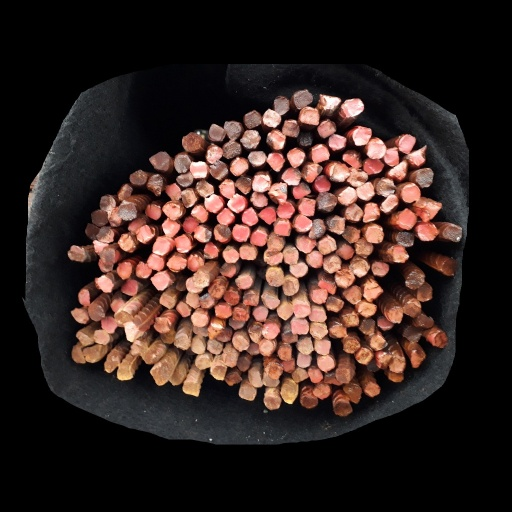dipstick: (415, 201, 442, 221), (340, 97, 364, 119), (317, 92, 340, 113), (406, 146, 427, 168), (315, 191, 337, 212), (347, 166, 368, 188), (363, 279, 384, 301), (122, 320, 144, 341), (148, 151, 171, 171), (207, 325, 233, 342), (352, 125, 373, 146), (302, 162, 323, 183), (349, 257, 370, 278), (150, 365, 171, 386), (262, 107, 282, 129), (181, 132, 203, 152), (251, 171, 271, 193), (334, 269, 356, 289), (316, 235, 338, 255), (416, 224, 440, 242), (293, 89, 314, 109), (366, 138, 386, 159), (266, 129, 286, 150), (233, 175, 254, 195), (117, 200, 138, 220), (328, 162, 349, 182), (166, 252, 187, 272), (266, 151, 285, 173), (269, 182, 288, 204), (404, 271, 426, 290), (282, 273, 300, 296), (98, 246, 122, 263), (209, 161, 229, 181), (229, 157, 249, 177), (325, 215, 345, 235), (396, 209, 416, 229), (309, 144, 330, 163), (342, 149, 363, 168), (161, 218, 182, 237), (400, 184, 421, 203), (265, 266, 284, 287), (150, 272, 171, 291), (442, 224, 464, 242), (295, 235, 317, 253), (316, 119, 336, 138), (387, 160, 407, 179), (287, 148, 306, 168), (204, 194, 223, 214), (227, 193, 246, 213), (295, 197, 315, 216), (377, 177, 396, 197), (390, 244, 409, 264), (323, 254, 343, 273), (335, 365, 355, 384), (343, 383, 362, 403), (115, 261, 134, 281), (87, 301, 106, 321), (299, 107, 320, 125), (224, 120, 242, 141), (162, 202, 183, 220), (355, 237, 373, 258), (263, 248, 284, 266), (277, 300, 295, 321), (398, 132, 415, 154), (342, 286, 364, 303), (232, 330, 249, 352), (248, 321, 264, 344), (243, 110, 262, 129), (218, 179, 237, 198), (273, 218, 292, 237), (293, 214, 312, 233), (338, 186, 357, 205), (365, 225, 384, 244), (266, 231, 285, 250), (295, 336, 314, 355), (240, 130, 260, 148), (281, 167, 301, 185), (107, 207, 125, 227), (363, 202, 381, 222), (415, 168, 433, 188), (395, 230, 415, 248), (403, 298, 421, 318), (403, 324, 423, 342), (282, 245, 300, 265), (354, 347, 374, 365), (222, 344, 237, 368), (153, 235, 171, 255), (133, 260, 153, 278), (222, 142, 243, 159), (174, 152, 191, 173), (260, 293, 281, 310), (146, 174, 162, 196), (195, 180, 214, 198), (240, 207, 258, 226), (216, 208, 235, 226), (313, 174, 332, 192), (232, 223, 250, 242), (213, 223, 231, 242), (345, 203, 363, 222), (381, 194, 399, 213), (306, 249, 324, 268), (309, 322, 328, 340), (279, 385, 297, 404), (146, 253, 165, 271), (117, 232, 135, 251), (135, 225, 154, 243), (96, 274, 114, 293), (130, 339, 148, 358), (246, 150, 266, 167), (180, 188, 197, 208), (249, 190, 269, 207), (357, 181, 374, 201), (309, 218, 326, 238), (363, 158, 384, 174), (417, 281, 433, 302), (356, 301, 377, 317), (194, 353, 215, 369), (282, 119, 300, 137), (189, 161, 207, 179), (144, 203, 162, 221), (191, 205, 209, 223), (259, 207, 277, 225), (223, 287, 241, 305), (273, 96, 290, 115), (296, 130, 315, 147), (208, 123, 225, 142), (343, 337, 362, 354), (316, 355, 335, 372), (174, 235, 193, 252), (96, 226, 115, 243), (90, 209, 109, 226), (114, 310, 133, 327), (234, 274, 254, 290), (66, 245, 86, 261), (82, 346, 102, 362), (287, 263, 308, 278), (329, 134, 347, 151), (206, 146, 223, 164), (129, 169, 147, 186), (250, 229, 267, 247), (222, 245, 239, 263), (181, 216, 198, 234), (342, 226, 360, 243), (386, 306, 403, 324), (371, 260, 389, 277), (336, 243, 354, 260), (325, 296, 343, 313), (248, 369, 265, 387), (259, 339, 276, 357), (263, 322, 280, 340), (207, 282, 224, 300), (192, 270, 210, 287), (187, 254, 205, 271), (121, 278, 138, 296), (159, 292, 176, 310), (414, 313, 433, 329), (317, 279, 336, 295), (290, 318, 309, 334), (223, 371, 242, 387), (209, 364, 228, 380), (206, 339, 225, 355), (185, 277, 204, 293), (182, 380, 201, 396), (442, 257, 457, 277), (328, 324, 348, 339), (322, 371, 343, 385), (194, 225, 211, 242), (370, 334, 387, 351), (239, 385, 256, 402), (242, 289, 259, 306), (175, 300, 192, 317), (203, 242, 220, 259), (128, 215, 145, 232), (164, 184, 182, 200), (276, 202, 294, 218), (432, 331, 448, 349), (358, 319, 376, 335), (307, 366, 323, 384), (313, 383, 331, 399), (232, 306, 250, 322), (219, 262, 237, 278), (186, 291, 202, 309), (84, 222, 100, 240), (153, 318, 171, 334), (174, 333, 190, 351), (101, 316, 117, 334), (117, 362, 133, 380), (377, 315, 396, 330), (410, 349, 425, 368), (291, 368, 310, 383), (191, 335, 206, 354), (190, 312, 209, 327), (198, 293, 217, 308), (104, 354, 119, 373), (333, 402, 353, 416), (261, 373, 281, 387), (388, 356, 404, 373), (313, 339, 330, 355), (265, 363, 282, 379), (252, 306, 268, 323), (235, 355, 252, 371), (169, 370, 186, 386), (71, 307, 88, 323), (93, 329, 110, 345), (117, 183, 132, 201), (239, 245, 257, 260), (310, 289, 328, 304), (363, 382, 381, 397), (292, 303, 310, 318), (264, 395, 282, 410), (385, 147, 399, 166), (308, 309, 327, 323), (300, 394, 319, 408), (75, 331, 94, 345), (72, 344, 86, 363), (228, 317, 248, 330), (99, 195, 115, 211), (277, 345, 293, 361), (176, 172, 193, 187), (293, 183, 310, 198), (342, 313, 359, 328), (141, 349, 159, 363), (214, 305, 233, 318), (296, 353, 312, 368), (280, 358, 296, 373), (92, 239, 109, 253), (97, 258, 114, 272), (281, 331, 299, 344), (77, 289, 90, 307), (160, 329, 175, 344), (379, 352, 392, 369), (191, 325, 209, 337), (246, 342, 261, 356), (110, 299, 126, 312), (387, 371, 404, 383), (175, 276, 188, 291), (367, 358, 380, 372)
